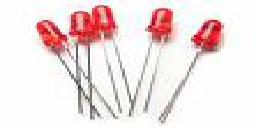LED: (133, 2, 177, 105), (190, 20, 235, 57), (35, 18, 68, 61), (91, 4, 118, 39), (69, 8, 93, 39)
